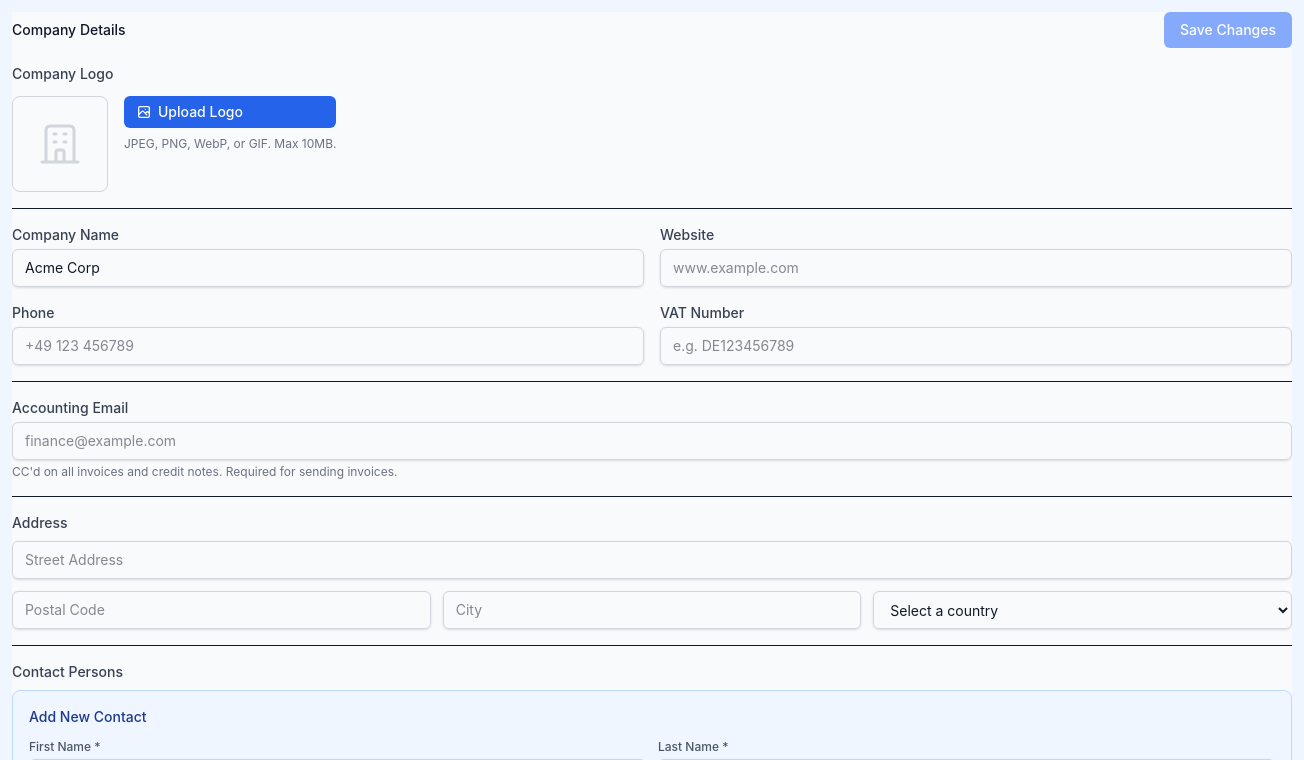
CompanyForm — Accounting Email › shows an inline error for invalid email on blur
Type "not-an-email" into the field labelled "Accounting Email" at (652, 441), box [12,422,1292,460]
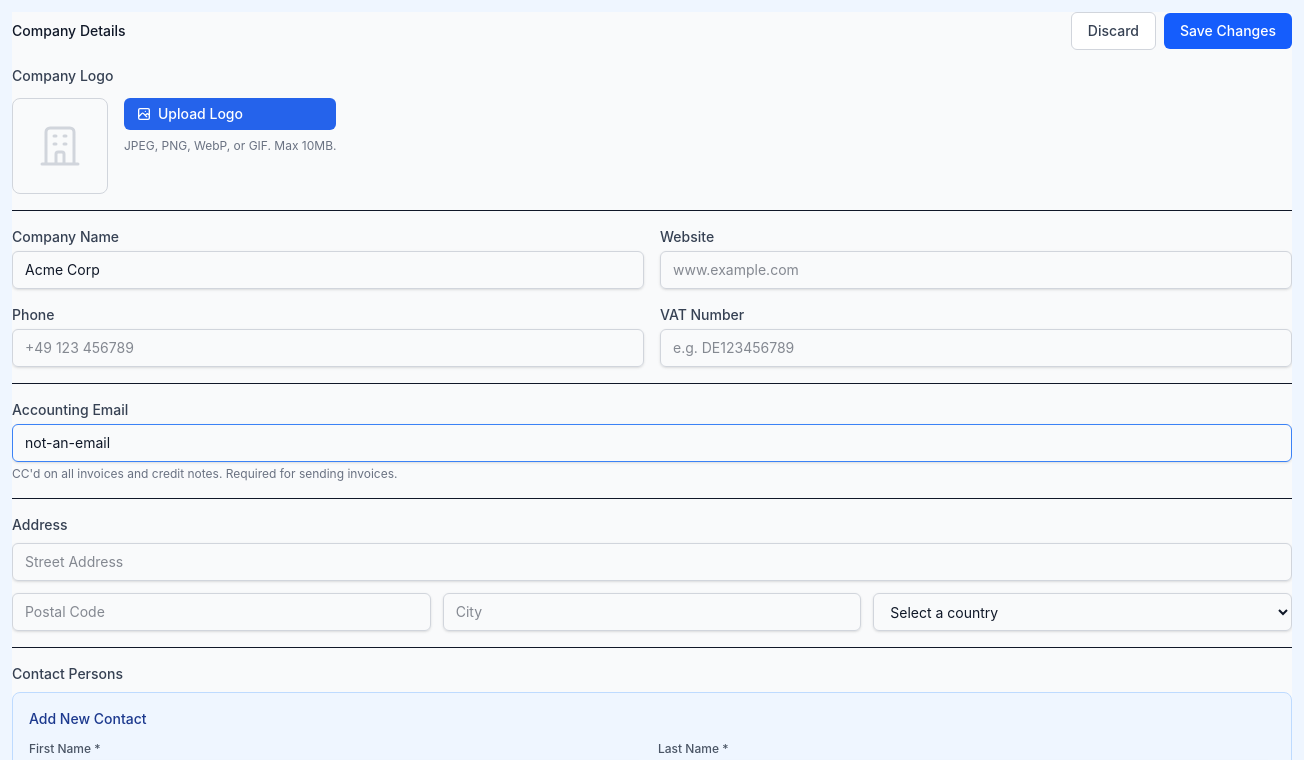
Press Tab
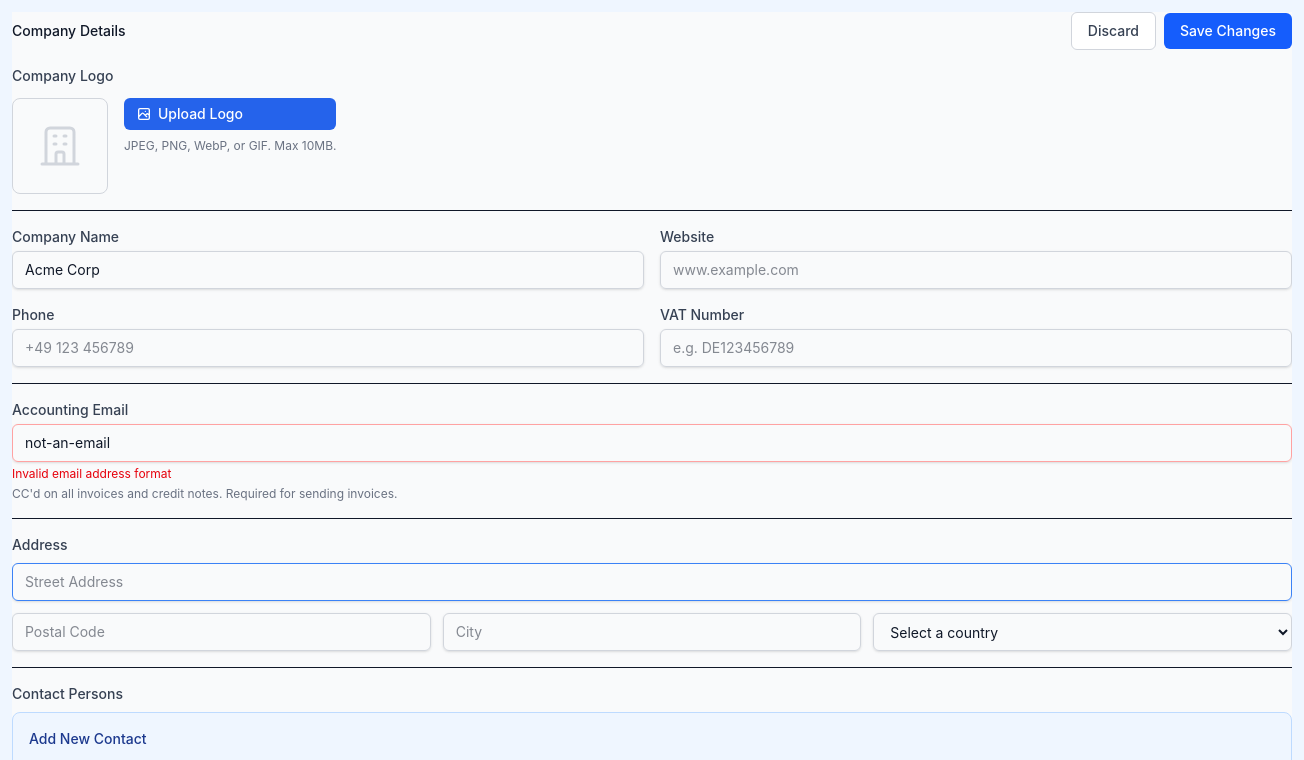
Now the text "Invalid email address format" is shown, box [12,466,172,481]
